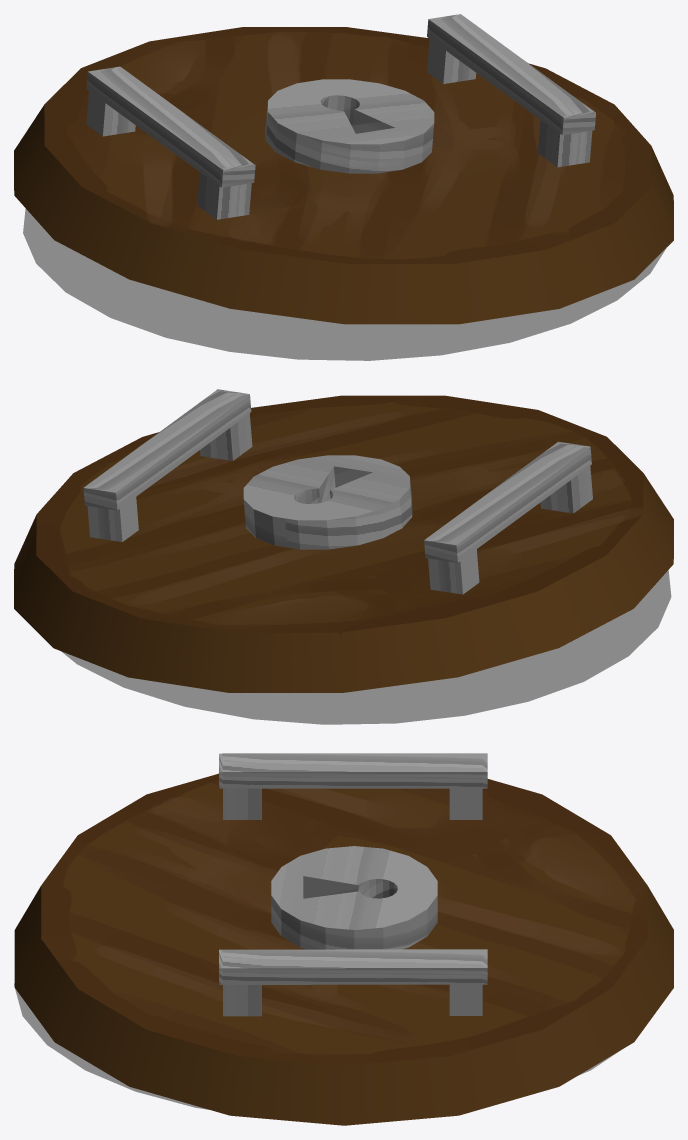
File: PintuLv1Open.FBX
The picture shows the model from 3 angles, top to bottom: view 1: azimuth 30°, elevation 25°; view 2: azimuth 150°, elevation 25°; view 3: azimuth 270°, elevation 25°; orthographic projection.
Parts seen in each view (by area): view 1: Drain Cover, Circle001; view 2: Drain Cover, Circle001; view 3: Drain Cover, Circle001.
Part boxes in pixels (x1,y1,x2,y2): Drain Cover: [14, 14, 673, 324]; Circle001: [23, 208, 666, 360]; Drain Cover: [14, 389, 673, 692]; Circle001: [61, 570, 671, 724]; Drain Cover: [14, 753, 673, 1125]; Circle001: [14, 983, 620, 1109].
Size of the model in its own units: 175 by 41 by 173.
3 materials, 2 textured.
